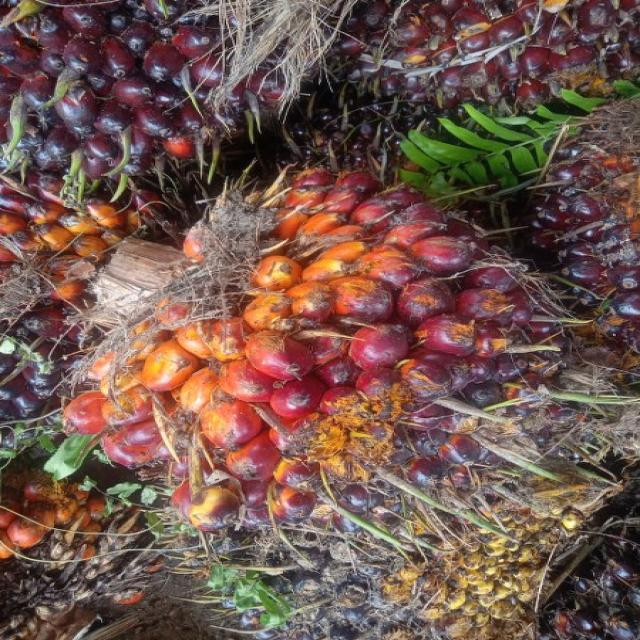fraksi 3: (25, 147, 593, 614)
